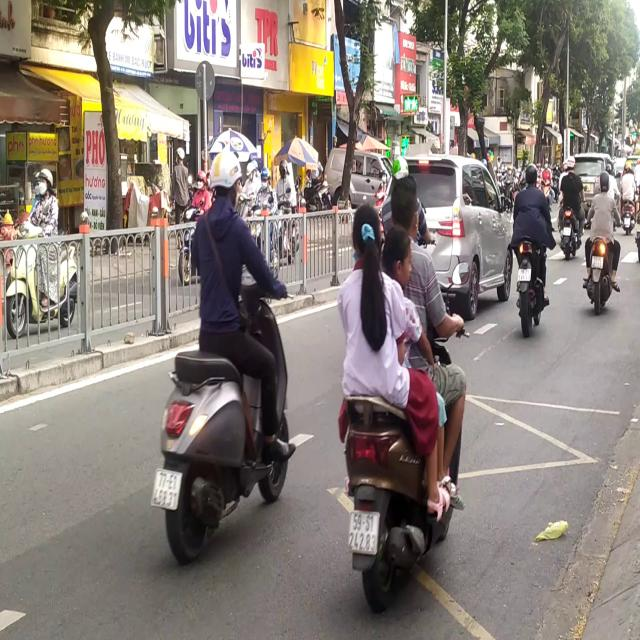bien_trang: (348, 502, 380, 556), (150, 463, 182, 512)
